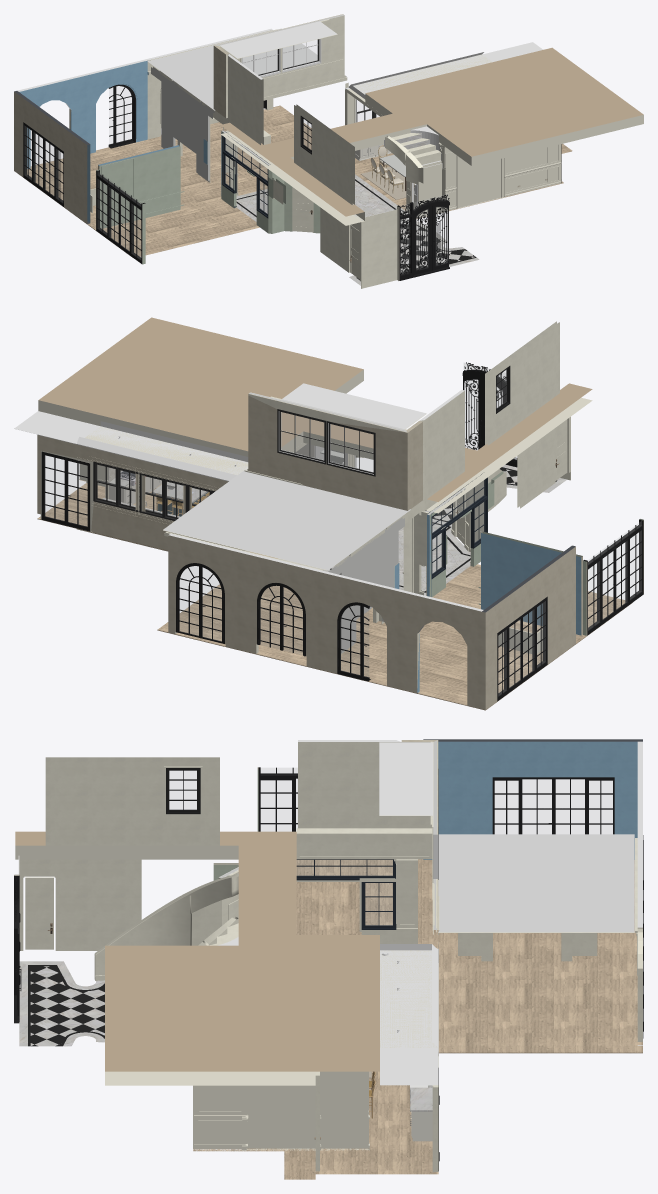
File: kitchen-526484a37705.glb
The picture shows the model from 3 angles, top to bottom: view 1: azimuth 30°, elevation 25°; view 2: azimuth 150°, elevation 25°; view 3: azimuth 270°, elevation 25°; orthographic projection. The views are drawn at different scales.
Parts seen in each view (by area): view 1: kitchen-look-2575515a05775d9e, kitchen-look-3b0077416469e01b, kitchen-look-969b861f9850351e, kitchen-19647d6da46c2b80, kitchen-look-b19b106fc304963c, kitchen-look-039192b0560cfac3, kitchen-look-4a969f5cc1ae3dfe, kitchen-look-746250f96522f643, kitchen-look-55ff1dfd7b659ec1, kitchen-look-245f595ae2832e16, kitchen-look-d5a4a1b5d3594c04, kitchen-look-7f59123d155b94ce (+37 smaller); view 2: kitchen-look-2575515a05775d9e, kitchen-look-969b861f9850351e, kitchen-look-3b0077416469e01b, kitchen-look-4a969f5cc1ae3dfe, kitchen-look-245f595ae2832e16, kitchen-look-039192b0560cfac3, kitchen-look-746250f96522f643, kitchen-bfb9fa537cd11d1d, kitchen-look-b19b106fc304963c, kitchen-49bdd6945a2d0056, kitchen-look-7f59123d155b94ce, kitchen-look-55ff1dfd7b659ec1 (+39 smaller); view 3: kitchen-look-2575515a05775d9e, kitchen-look-3b0077416469e01b, kitchen-look-4a969f5cc1ae3dfe, kitchen-look-746250f96522f643, kitchen-look-039192b0560cfac3, kitchen-look-85f0fd939e0fcc78, kitchen-look-7f59123d155b94ce, kitchen-9a0e9ee9b2a451d7, kitchen-look-e388ad8855329420, kitchen-look-daececc498878d00, kitchen-5b6bbac285e58726, kitchen-look-9d91b47435c6fb33 (+28 smaller).
Boxes of the visible parts, x1,y1,x2,y2 form: kitchen-look-2575515a05775d9e: (221, 47, 643, 225); kitchen-look-3b0077416469e01b: (14, 105, 572, 257); kitchen-look-969b861f9850351e: (17, 28, 273, 168); kitchen-19647d6da46c2b80: (444, 144, 560, 208); kitchen-look-b19b106fc304963c: (98, 145, 180, 228); kitchen-look-039192b0560cfac3: (14, 91, 90, 223); kitchen-look-4a969f5cc1ae3dfe: (147, 28, 346, 110); kitchen-look-746250f96522f643: (294, 104, 354, 205); kitchen-look-55ff1dfd7b659ec1: (151, 67, 214, 180); kitchen-look-245f595ae2832e16: (214, 14, 344, 97); kitchen-look-d5a4a1b5d3594c04: (361, 209, 397, 288); kitchen-look-7f59123d155b94ce: (228, 54, 263, 144); kitchen-look-2575515a05775d9e: (38, 317, 592, 513); kitchen-look-969b861f9850351e: (168, 533, 483, 708); kitchen-look-3b0077416469e01b: (37, 479, 632, 710); kitchen-look-4a969f5cc1ae3dfe: (163, 471, 410, 570); kitchen-look-245f595ae2832e16: (248, 392, 407, 510); kitchen-look-039192b0560cfac3: (481, 545, 575, 709); kitchen-look-746250f96522f643: (485, 321, 559, 445); kitchen-bfb9fa537cd11d1d: (76, 444, 246, 551); kitchen-look-b19b106fc304963c: (481, 531, 582, 635); kitchen-49bdd6945a2d0056: (76, 421, 248, 480); kitchen-look-7f59123d155b94ce: (419, 390, 464, 511); kitchen-look-55ff1dfd7b659ec1: (328, 517, 404, 653); kitchen-look-2575515a05775d9e: (15, 831, 379, 1085); kitchen-look-3b0077416469e01b: (284, 859, 642, 1179); kitchen-look-4a969f5cc1ae3dfe: (438, 834, 634, 932); kitchen-look-746250f96522f643: (45, 757, 219, 845); kitchen-look-039192b0560cfac3: (423, 739, 642, 859); kitchen-look-85f0fd939e0fcc78: (19, 859, 141, 950); kitchen-look-7f59123d155b94ce: (298, 740, 401, 828); kitchen-9a0e9ee9b2a451d7: (380, 950, 438, 1047); kitchen-look-e388ad8855329420: (30, 966, 104, 1046); kitchen-look-daececc498878d00: (296, 828, 432, 859); kitchen-5b6bbac285e58726: (247, 1085, 315, 1150); kitchen-look-9d91b47435c6fb33: (379, 742, 432, 815).
Bounding box in the file's own units: 20.84 × 6.36 × 16.8.
71 materials, 15 textured.
